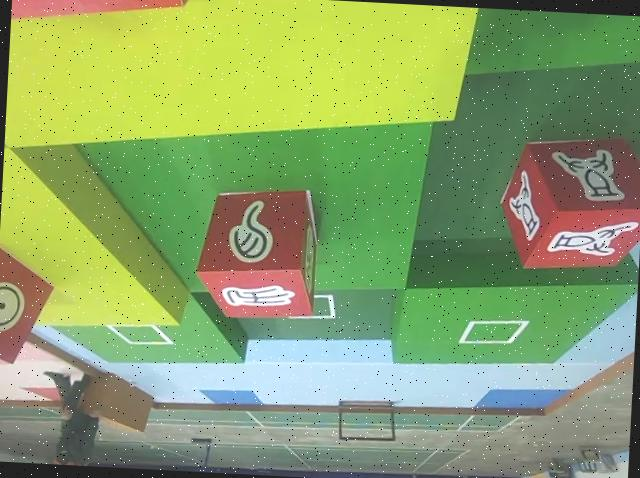R2 Fake: (192, 182, 325, 322)
R2 Real: (495, 129, 640, 278), (0, 237, 58, 372)
